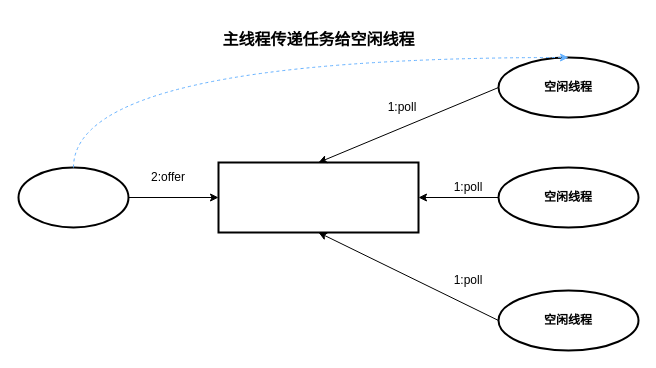
Some shapes in this 656 by 368 pixel diagram are drawn without their labels. The box of each missing label's shape, as (x1, y1, x2, y2) in pixels:
SynchronousQueue<Runnable>: (217, 161, 419, 233)
主线程: (17, 166, 129, 228)
